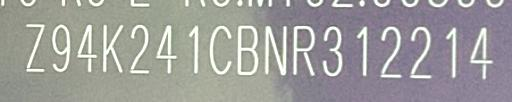letter: (467, 22, 495, 80), (206, 24, 234, 76), (378, 22, 404, 78), (262, 23, 288, 77), (408, 24, 434, 78), (99, 22, 125, 75), (126, 23, 152, 75), (233, 24, 259, 76), (290, 24, 316, 76), (319, 25, 345, 77), (23, 21, 47, 74), (153, 22, 177, 75), (74, 22, 98, 74), (51, 22, 73, 73), (184, 23, 202, 77), (441, 25, 459, 79), (352, 25, 370, 77)
